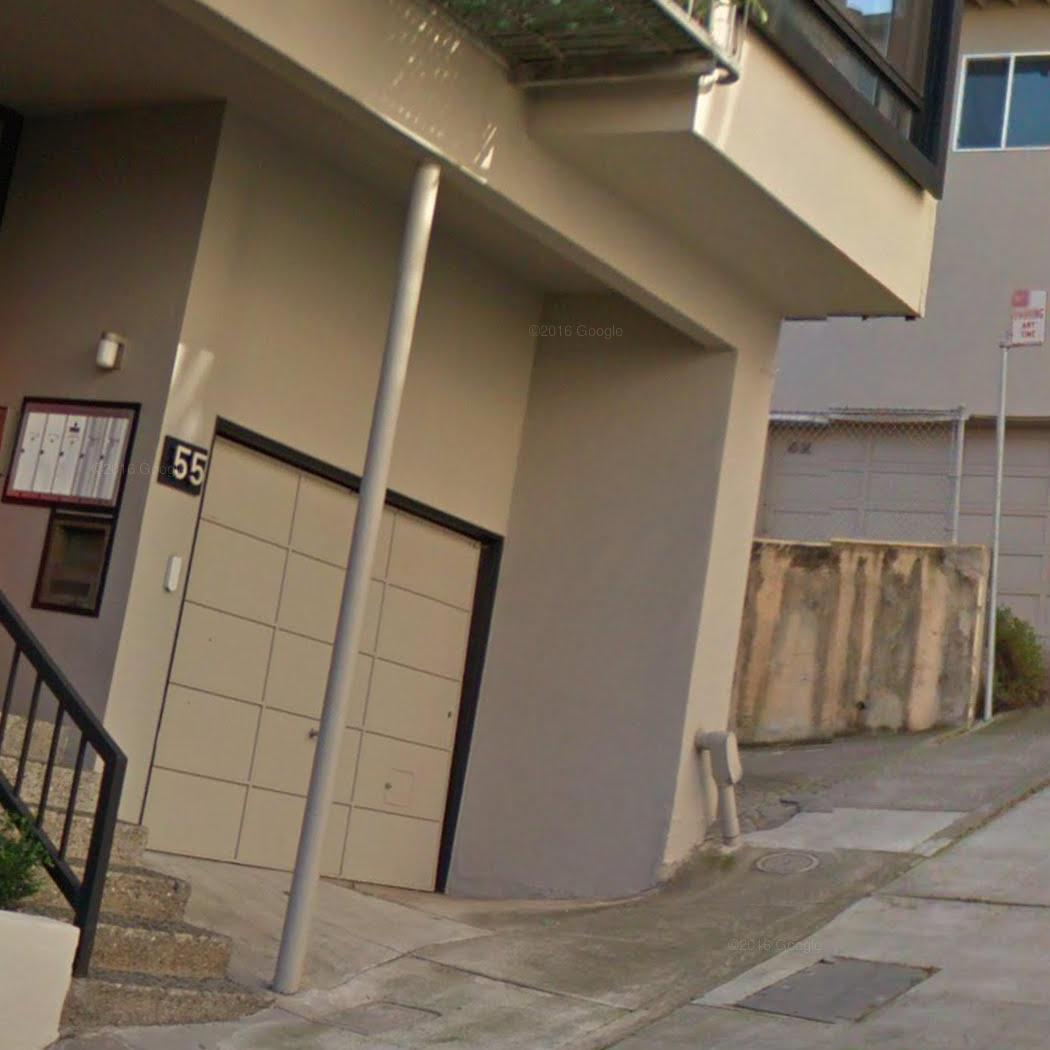No Parking Anytime: (1003, 282, 1050, 354)
